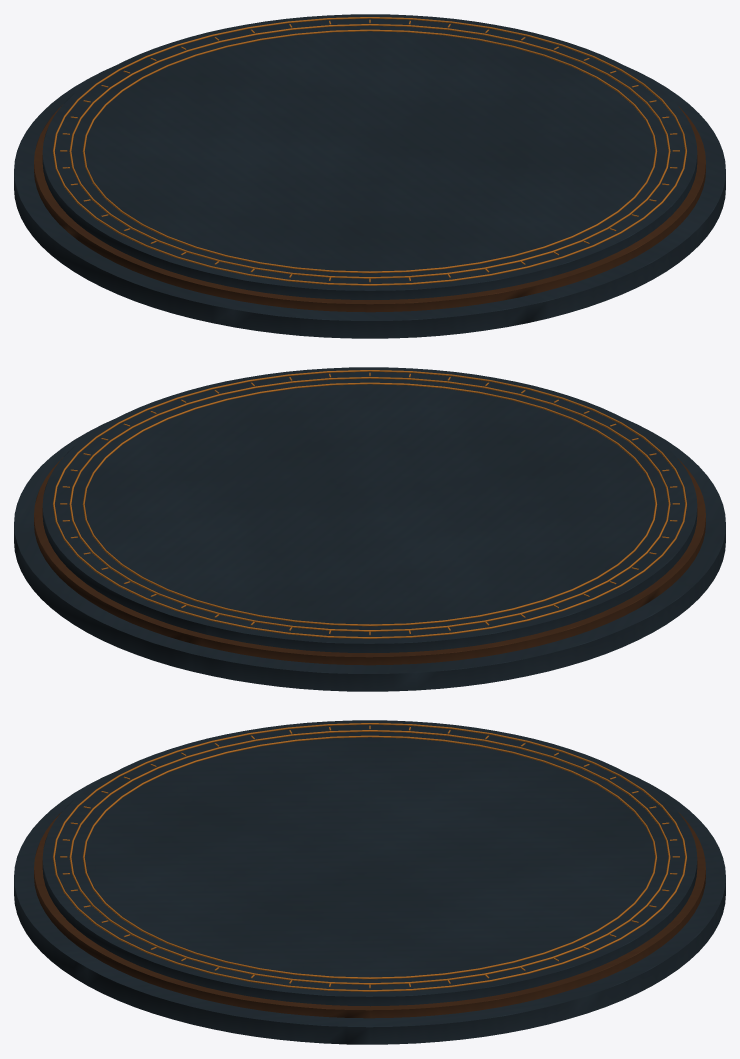
File: plinth_low.glb
The picture shows the model from 3 angles, top to bottom: view 1: azimuth 30°, elevation 25°; view 2: azimuth 150°, elevation 25°; view 3: azimuth 270°, elevation 25°; orthographic projection.
Visible parts, largest first — view 1: Weathered_basalt, Brushed_gold, Patinated_bronze; view 2: Weathered_basalt, Brushed_gold, Patinated_bronze; view 3: Weathered_basalt, Brushed_gold, Patinated_bronze.
Part boxes in pixels (bbox=[...]): Weathered_basalt: bbox=[14, 14, 725, 338]; Brushed_gold: bbox=[53, 17, 686, 285]; Patinated_bronze: bbox=[34, 105, 705, 312]; Weathered_basalt: bbox=[14, 367, 725, 691]; Brushed_gold: bbox=[53, 370, 686, 638]; Patinated_bronze: bbox=[34, 458, 705, 665]; Weathered_basalt: bbox=[14, 720, 725, 1044]; Brushed_gold: bbox=[53, 723, 686, 991]; Patinated_bronze: bbox=[34, 812, 705, 1018].
Bounding box in the file's own units: 10.7 × 0.63 × 10.7.
Materials: 3 (3 with a texture image).
